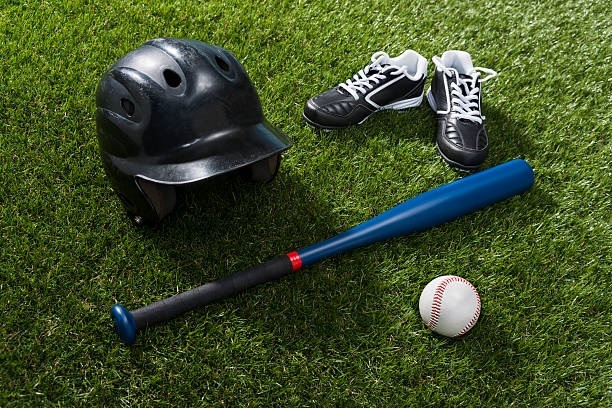bita: (118, 161, 544, 336)
